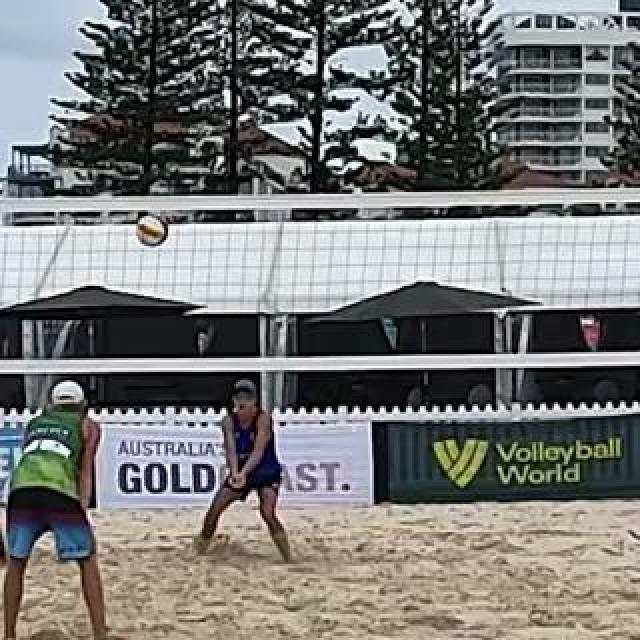volleyball: (137, 217, 167, 247)
